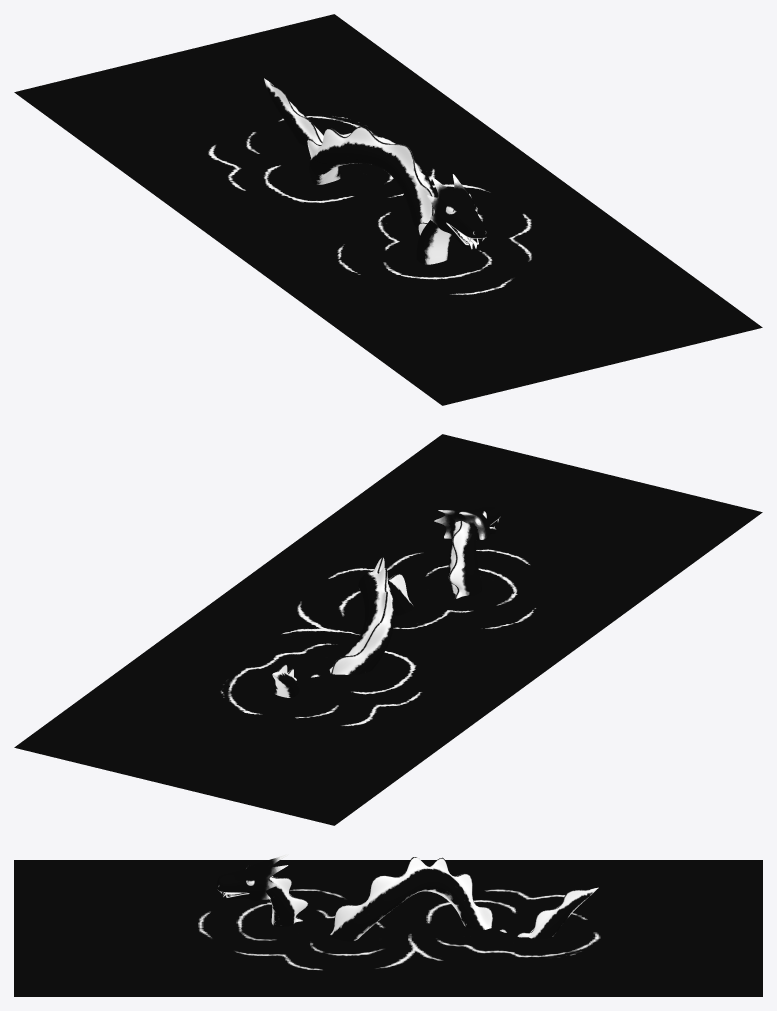
File: inktober_-_day_12_-_dragon.glb
The picture shows the model from 3 angles, top to bottom: view 1: azimuth 30°, elevation 25°; view 2: azimuth 150°, elevation 25°; view 3: azimuth 270°, elevation 25°; orthographic projection. The views are drawn at different scales.
Visible parts, largest first — view 1: pPlane3, polySurface8, polySurface7; view 2: pPlane3, polySurface8, polySurface7; view 3: pPlane3, polySurface8, polySurface7.
Part boxes in pixels (x1,y1,x2,y2): pPlane3: (14,14,762,405); polySurface8: (264,78,451,264); polySurface7: (427,174,486,246); pPlane3: (14,434,762,825); polySurface8: (272,520,481,697); polySurface7: (434,507,500,540); pPlane3: (14,860,762,996); polySurface8: (266,857,598,941); polySurface7: (217,854,288,900).
Bounding box in the file's own units: 55.67 × 20.33 × 129.
4 materials, 4 textured.
